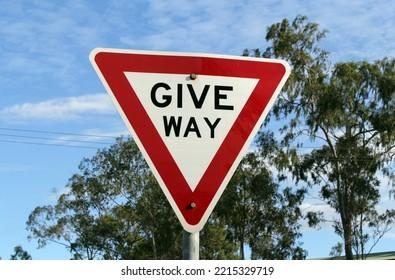Give Way: (83, 41, 301, 232)
